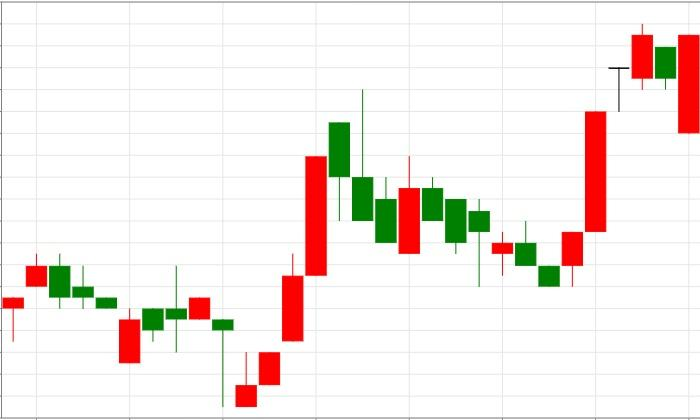three_white_soldiers_rise: (165, 253, 304, 408)
